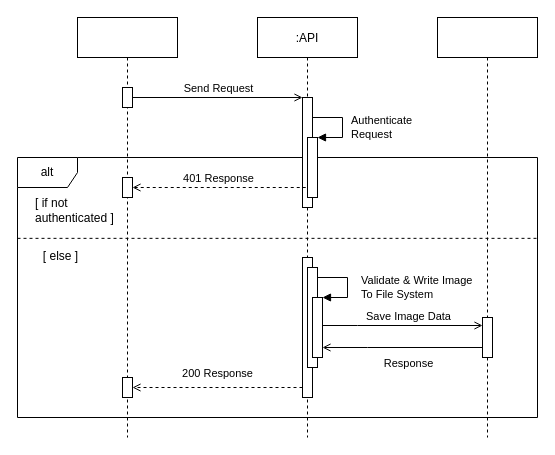
Some shapes in this 555 by 455 pixel diagram are drawn without their labels. Here are the shapes that lost their labels. From the top down, the box of each, then its label:
(76, 16, 178, 438): :Client
(436, 16, 538, 438): :Database
